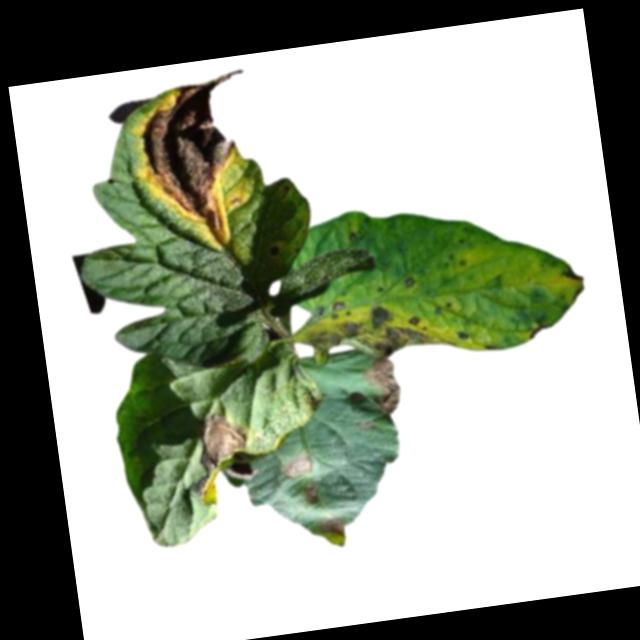Early_blight: (129, 67, 268, 249), (292, 282, 453, 365), (186, 406, 256, 508), (365, 356, 402, 416), (560, 263, 587, 298), (318, 515, 344, 542), (288, 454, 315, 479), (302, 481, 321, 504), (354, 418, 376, 435)
